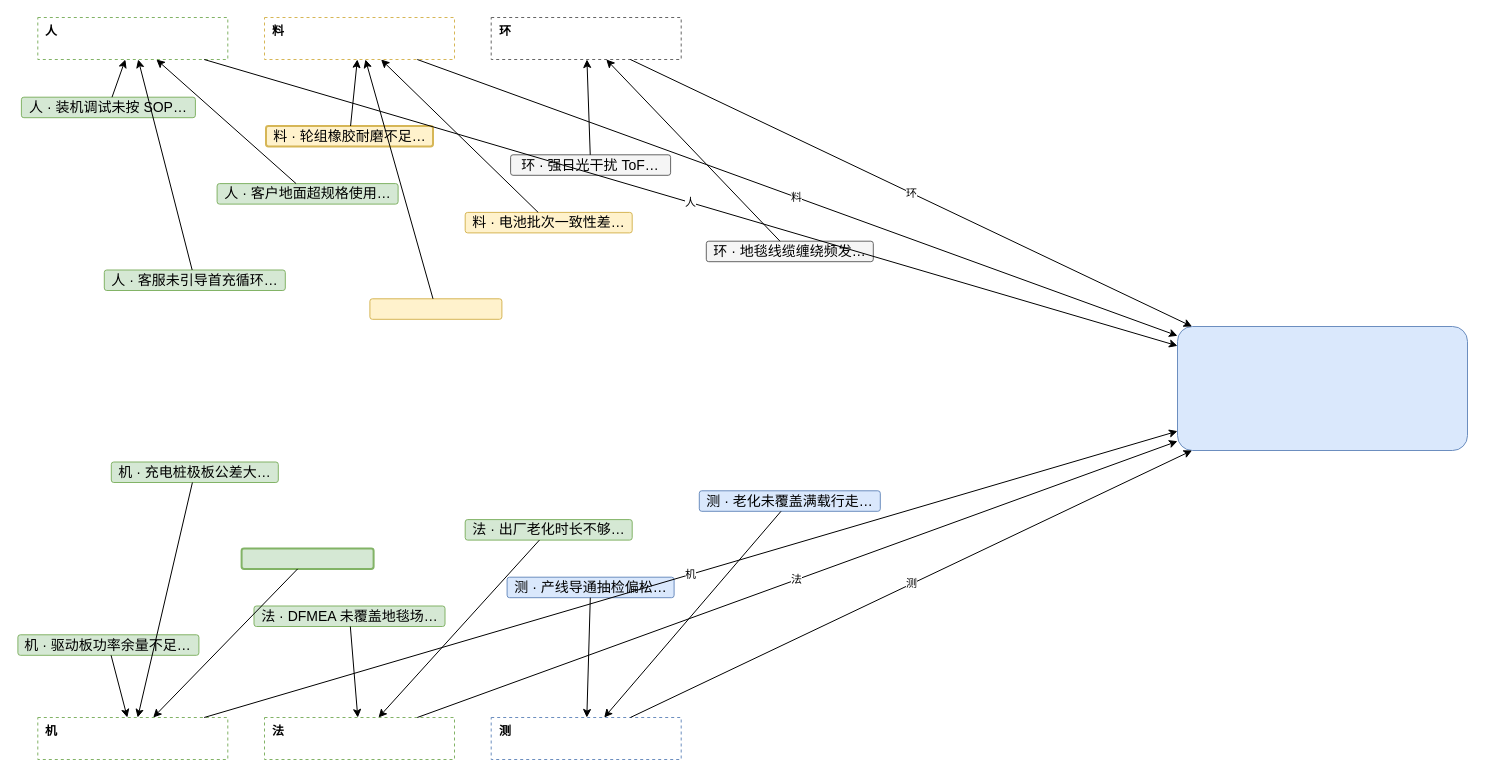
Some shapes in this 1485 by 777 pixel diagram are drawn without their labels. The shapes that lost their labels are listed below. From the top down, each one's centre as x and y in pixels, then its label:
(x=435, y=308): 料 · 外壳卡扣料脆
(x=1322, y=388): 巡检机器人退货率超标
(x=307, y=558): 机 · 云台舵机虚焊
